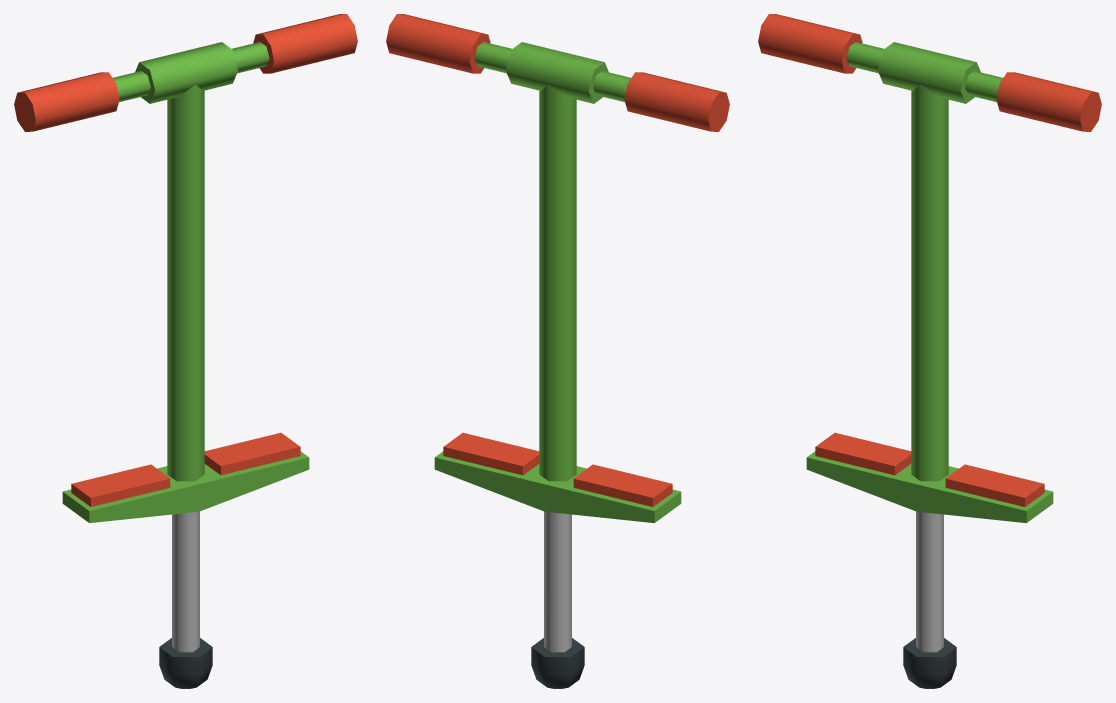
The model's file is Pogostick_01.fbx.
The picture shows the model from 3 angles, left to right: view 1: azimuth 30°, elevation 25°; view 2: azimuth 150°, elevation 25°; view 3: azimuth 330°, elevation 25°; orthographic projection.
Parts seen in each view (by area): view 1: Pogostick_01, Pogostick_01_Bottom; view 2: Pogostick_01, Pogostick_01_Bottom; view 3: Pogostick_01, Pogostick_01_Bottom.
Boxes of the visible parts, x1=… form: Pogostick_01: x1=14, y1=14, x2=357, y2=523; Pogostick_01_Bottom: x1=159, y1=511, x2=212, y2=688; Pogostick_01: x1=386, y1=14, x2=729, y2=523; Pogostick_01_Bottom: x1=531, y1=511, x2=584, y2=688; Pogostick_01: x1=758, y1=14, x2=1101, y2=523; Pogostick_01_Bottom: x1=903, y1=511, x2=956, y2=688.
Size of the model in its own units: 0.4319 by 0.8103 by 0.0622.
